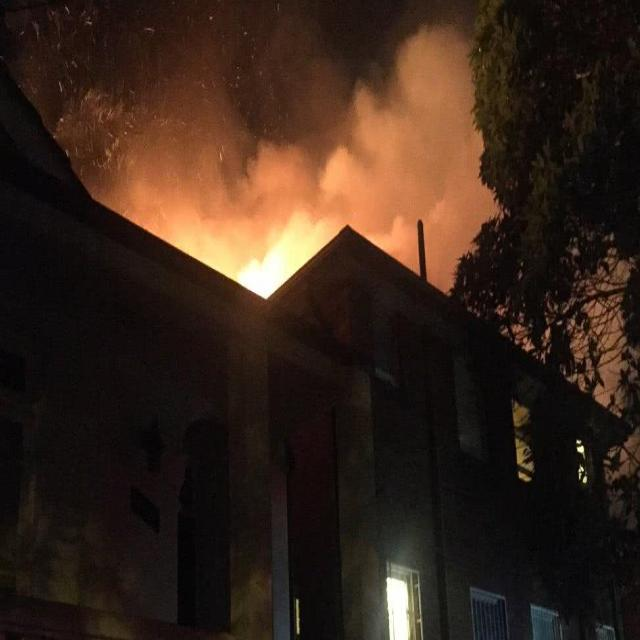Fire: (244, 167, 337, 312)
